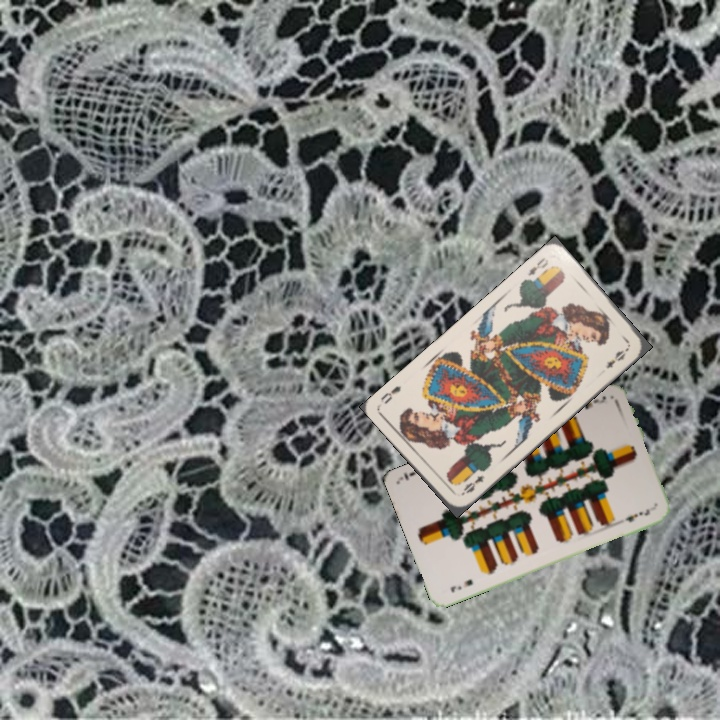E7: (446, 575, 476, 595), (580, 392, 609, 412)
EO: (457, 471, 487, 499), (524, 253, 551, 279)
